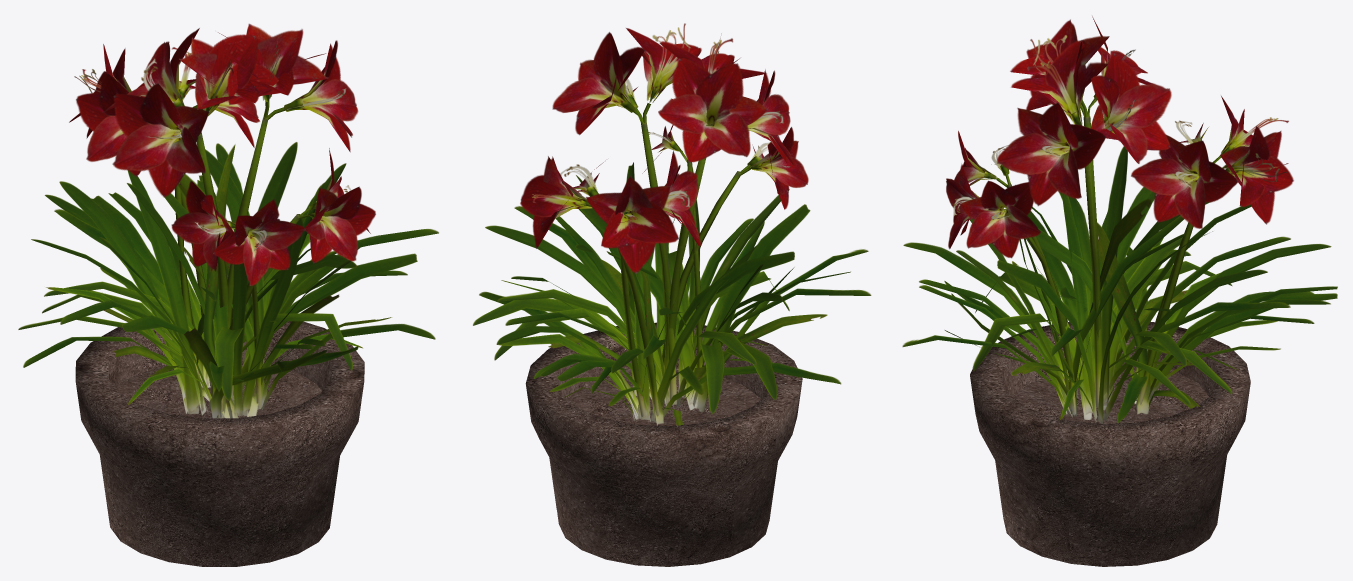
Rendered from ISMAR_amarillis_big.glb.
The picture shows the model from 3 angles, left to right: view 1: azimuth 30°, elevation 25°; view 2: azimuth 150°, elevation 25°; view 3: azimuth 270°, elevation 25°; orthographic projection. The views are drawn at different scales.
Visible parts, largest first — view 1: Amaryllis_LOD1_Var6_sgzkv.001, pCylinder1, Amaryllis_LOD1_Var6_sgzkv, pCylinder2; view 2: Amaryllis_LOD1_Var6_sgzkv.001, pCylinder1, Amaryllis_LOD1_Var6_sgzkv, pCylinder2; view 3: Amaryllis_LOD1_Var6_sgzkv, pCylinder1, Amaryllis_LOD1_Var6_sgzkv.001, pCylinder2.
Part boxes in pixels (<box>): Amaryllis_LOD1_Var6_sgzkv.001: <box>44,28,438,418</box>; pCylinder1: <box>75,321,364,566</box>; Amaryllis_LOD1_Var6_sgzkv: <box>18,23,391,418</box>; pCylinder2: <box>116,361,321,418</box>; Amaryllis_LOD1_Var6_sgzkv.001: <box>473,33,827,427</box>; pCylinder1: <box>525,322,802,566</box>; Amaryllis_LOD1_Var6_sgzkv: <box>497,23,871,422</box>; pCylinder2: <box>567,370,760,426</box>; Amaryllis_LOD1_Var6_sgzkv: <box>903,40,1337,423</box>; pCylinder1: <box>970,322,1250,566</box>; Amaryllis_LOD1_Var6_sgzkv.001: <box>902,16,1337,422</box>; pCylinder2: <box>1012,368,1208,423</box>.
Bounding box in the file's own units: 2.67 × 3.33 × 2.71.
3 materials, 3 textured.
